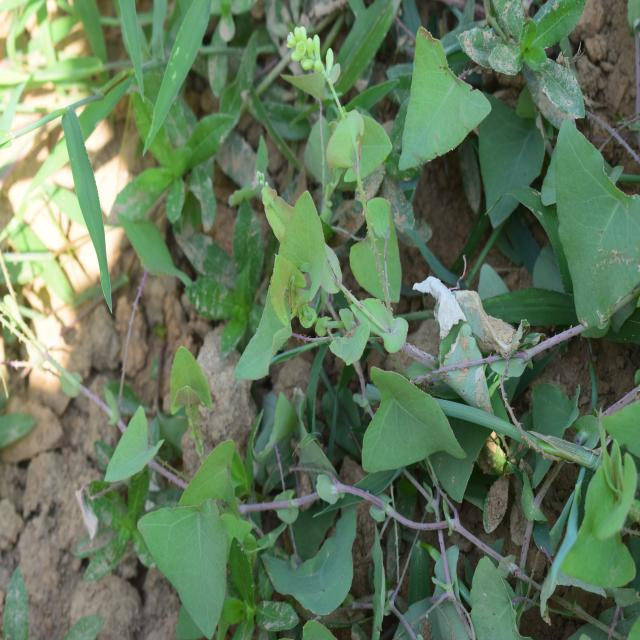Asiatic_Smartweed: (76, 331, 286, 604), (248, 78, 416, 382), (357, 354, 460, 488)
